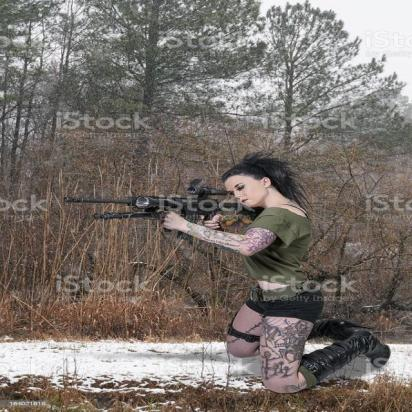Gun: (68, 178, 254, 228)
